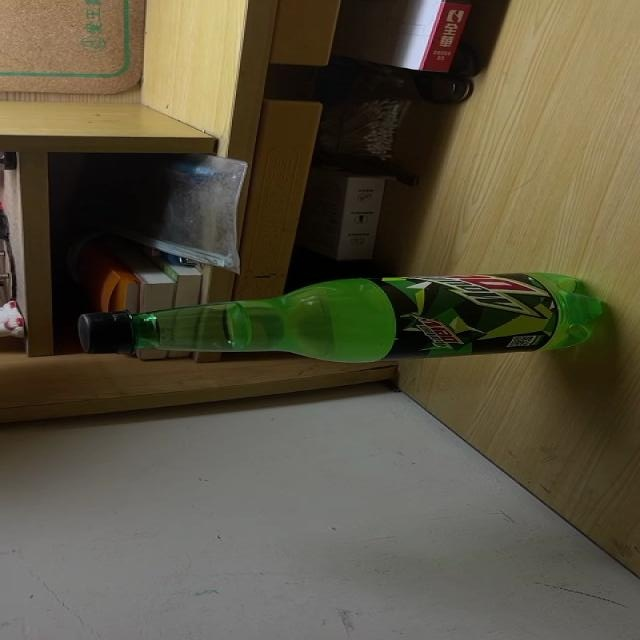Mountain-Dew: (76, 270, 607, 363)
